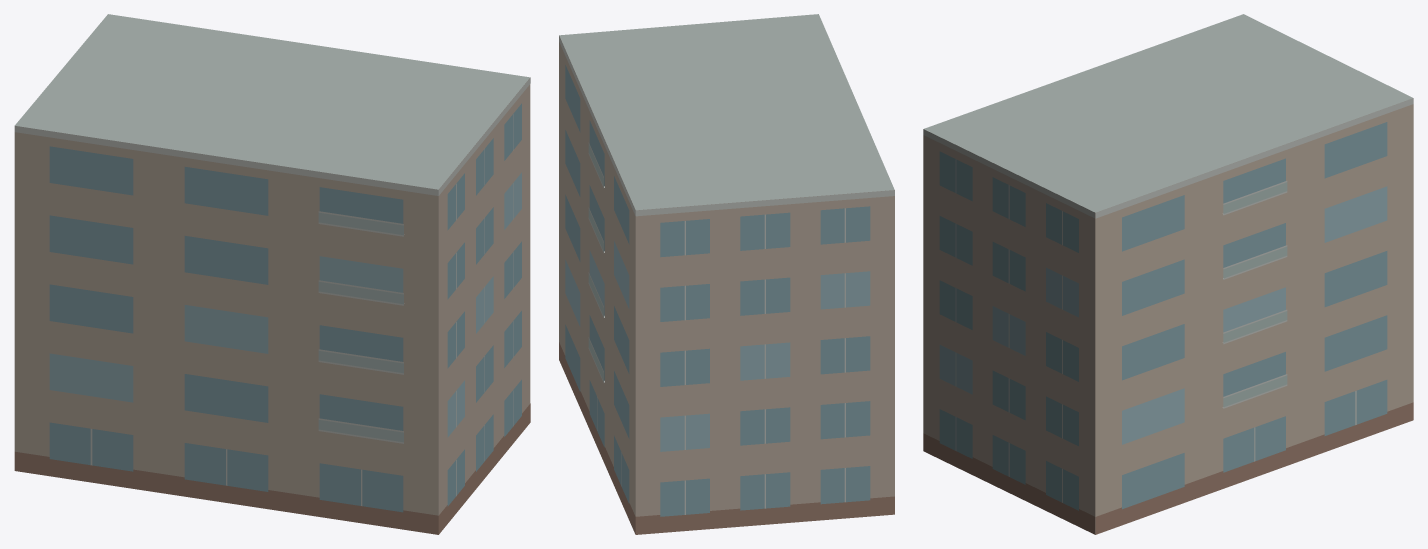
File: survey-upis-32998846.glb
3 views of the same model, side by side, from view 1: azimuth 30°, elevation 25°; view 2: azimuth 150°, elevation 25°; view 3: azimuth 270°, elevation 25° (orthographic). The views are drawn at different scales.
Visible parts, largest first — view 1: survey-upis-32998846.tmp; view 2: survey-upis-32998846.tmp; view 3: survey-upis-32998846.tmp.
Part boxes in pixels (x1=…): survey-upis-32998846.tmp: x1=14, y1=14, x2=530, y2=534; survey-upis-32998846.tmp: x1=559, y1=14, x2=894, y2=534; survey-upis-32998846.tmp: x1=923, y1=14, x2=1413, y2=534.
Bounding box in the file's own units: 17.5 × 13.22 × 18.24.
